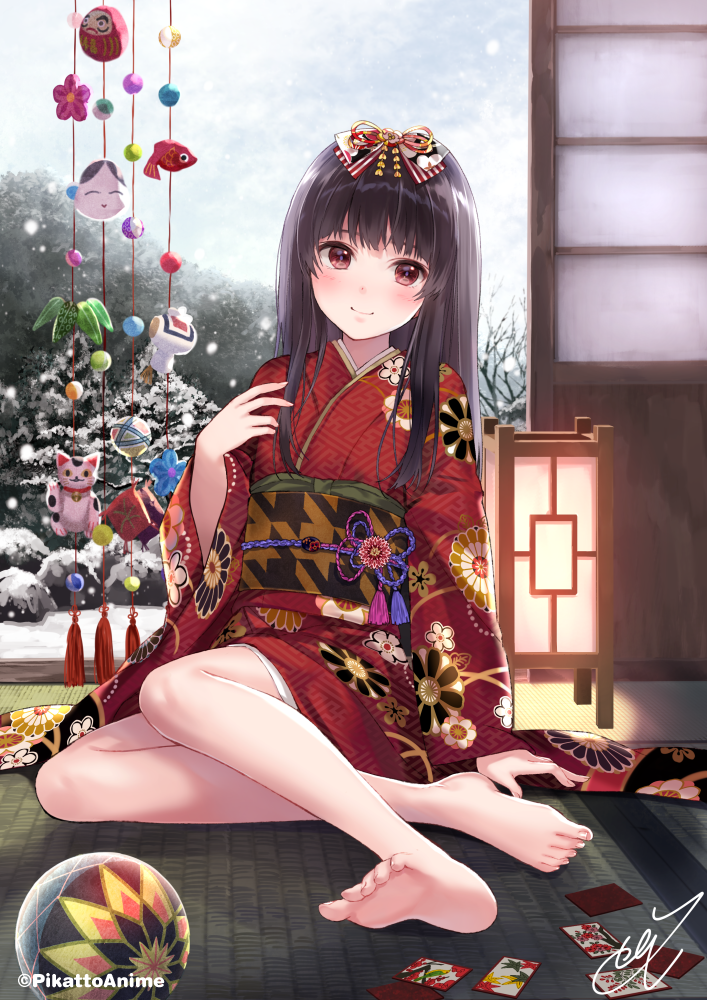纸片人正脸: (273, 117, 481, 352)
